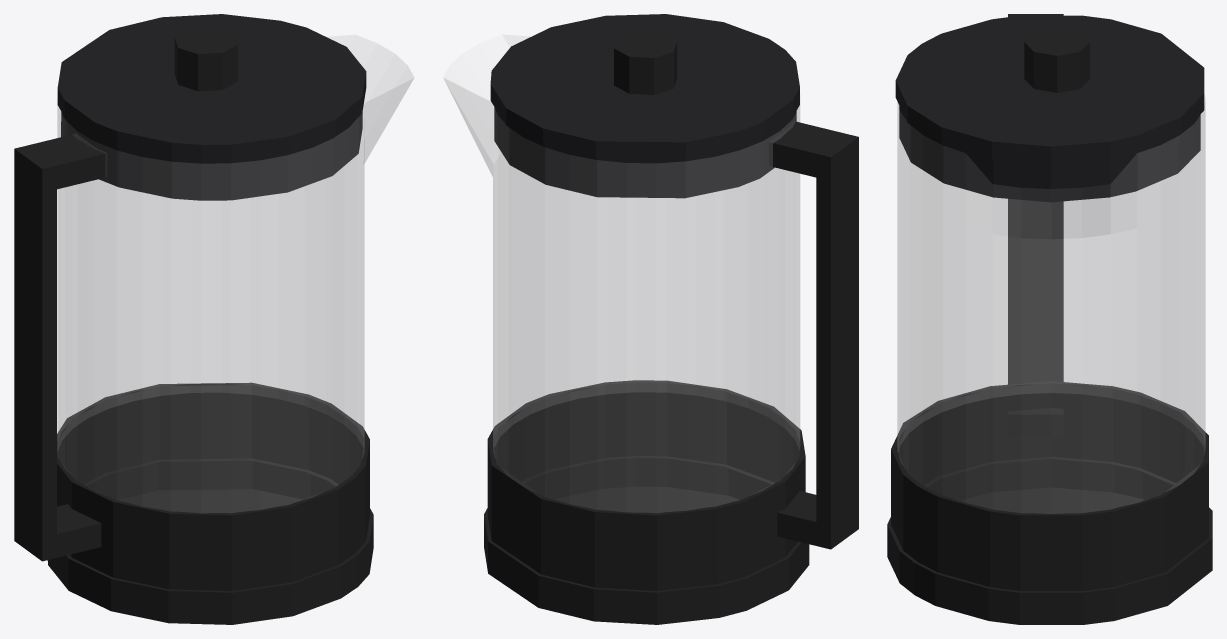
Rendered from frenchpress.fbx.
The picture shows the model from 3 angles, left to right: view 1: azimuth 30°, elevation 25°; view 2: azimuth 150°, elevation 25°; view 3: azimuth 270°, elevation 25°; orthographic projection.
Visible parts, largest first — view 1: Cylinder.038, Cylinder.019, Cylinder.040, Cube.090, Cylinder.042; view 2: Cylinder.038, Cylinder.019, Cylinder.040, Cube.090, Cylinder.042; view 3: Cylinder.038, Cylinder.019, Cylinder.040, Cube.090, Cylinder.042.
Boxes of the visible parts, box(x1,y1,x2,y2) form: Cylinder.038: box(57, 35, 413, 512); Cylinder.019: box(47, 382, 373, 624); Cylinder.040: box(57, 14, 366, 200); Cube.090: box(14, 133, 107, 561); Cylinder.042: box(174, 27, 237, 91); Cylinder.038: box(443, 34, 799, 512); Cylinder.019: box(484, 380, 809, 624); Cylinder.040: box(490, 14, 799, 198); Cube.090: box(768, 121, 858, 549); Cylinder.042: box(614, 31, 677, 94); Cylinder.038: box(897, 95, 1205, 513); Cylinder.019: box(887, 381, 1212, 624); Cylinder.040: box(895, 15, 1204, 202); Cube.090: box(1008, 14, 1063, 438); Cylinder.042: box(1024, 28, 1089, 92).
Size of the model in its own units: 11.76 by 15.4 by 8.84.
Materials: 2 (1 with a texture image).
